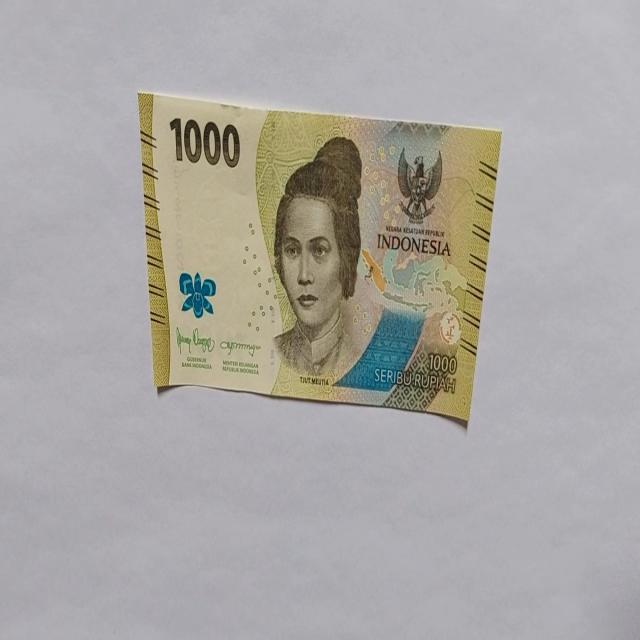seribu rupiah kertas: (138, 89, 502, 426)
